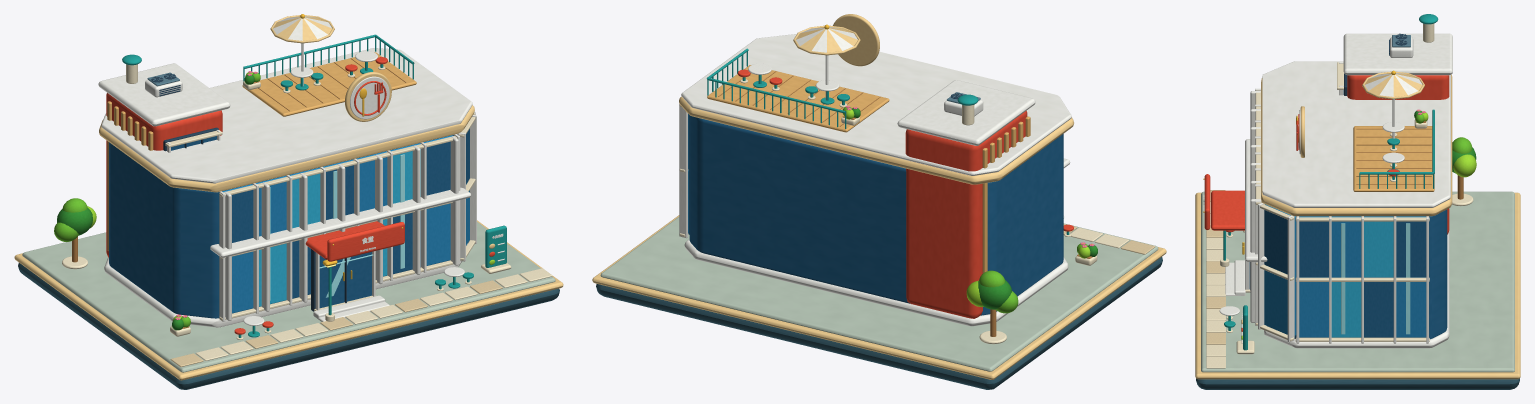
The model's file is 06_dining_hall.glb.
3 views of the same model, side by side, from view 1: azimuth 30°, elevation 25°; view 2: azimuth 150°, elevation 25°; view 3: azimuth 270°, elevation 25° (orthographic). The views are drawn at different scales.
Visible parts, largest first — view 1: 06_dining_hall_Architecture, 06_dining_hall_Display_Base, 06_dining_hall_Signage, 06_dining_hall_Landscaping; view 2: 06_dining_hall_Architecture, 06_dining_hall_Display_Base, 06_dining_hall_Landscaping; view 3: 06_dining_hall_Architecture, 06_dining_hall_Display_Base, 06_dining_hall_Signage, 06_dining_hall_Landscaping.
Part boxes in pixels (left/top/right/bottom): 06_dining_hall_Architecture: left=54, top=14, right=511, bottom=339; 06_dining_hall_Display_Base: left=14, top=220, right=563, bottom=389; 06_dining_hall_Signage: left=327, top=222, right=503, bottom=261; 06_dining_hall_Landscaping: left=62, top=71, right=260, bottom=336; 06_dining_hall_Architecture: left=679, top=14, right=1073, bottom=336; 06_dining_hall_Display_Base: left=592, top=215, right=1166, bottom=389; 06_dining_hall_Landscaping: left=842, top=105, right=1097, bottom=344; 06_dining_hall_Architecture: left=1203, top=14, right=1476, bottom=354; 06_dining_hall_Display_Base: left=1195, top=190, right=1520, bottom=389; 06_dining_hall_Signage: left=1203, top=174, right=1242, bottom=319; 06_dining_hall_Landscaping: left=1414, top=109, right=1473, bottom=206.
Size of the model in its own units: 12.03 by 7.55 by 9.03.
Materials: 4 (4 with a texture image).
